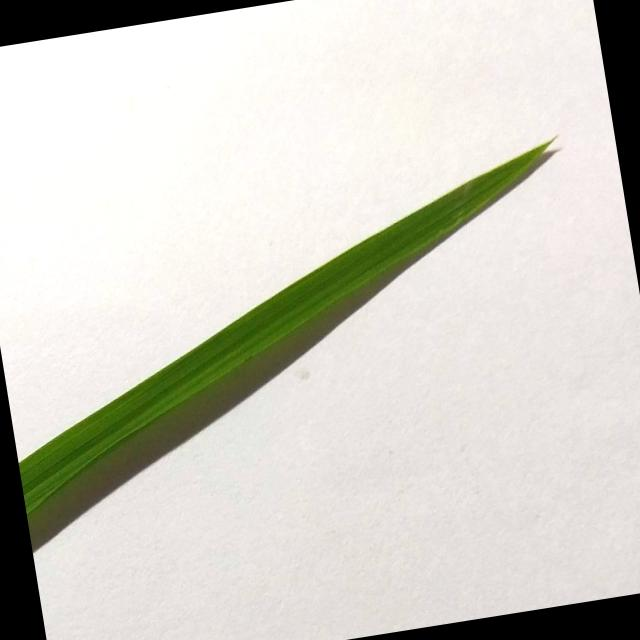Rice_Healthy: (19, 139, 554, 515)
